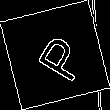P_NW: (24, 26, 86, 84)
